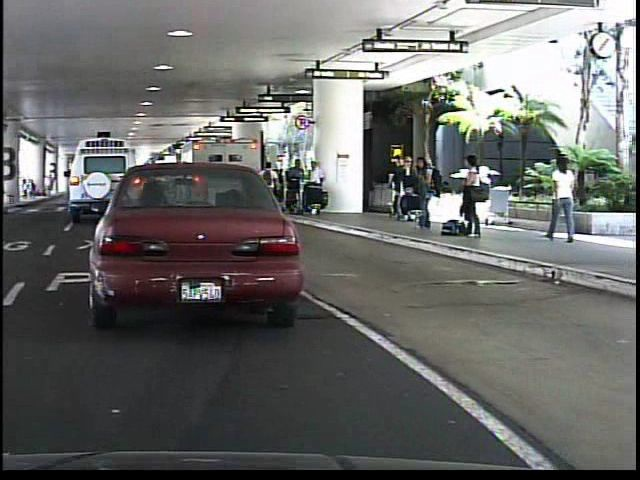person: (542, 153, 580, 244), (455, 151, 483, 240)
